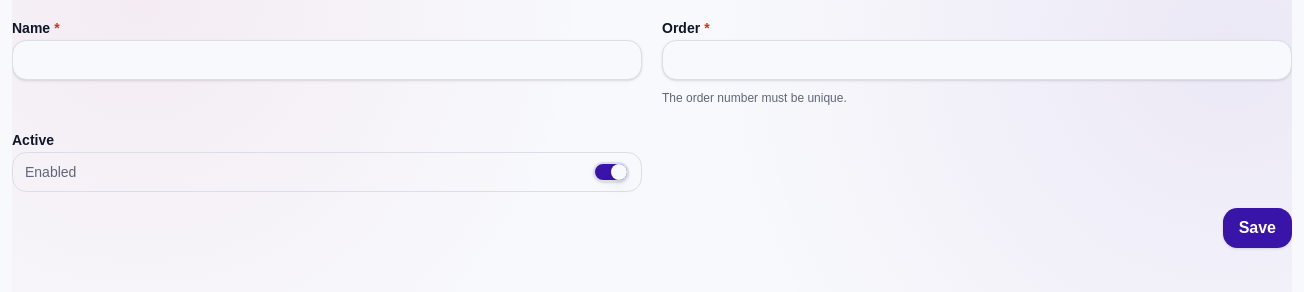
Test: ResourceForm › reports a non-numeric order and an out-of-range one
Step 1. Type "Y" into the field labelled "Name*" → (327, 60), box top-left (12, 40), bottom-right (642, 80)
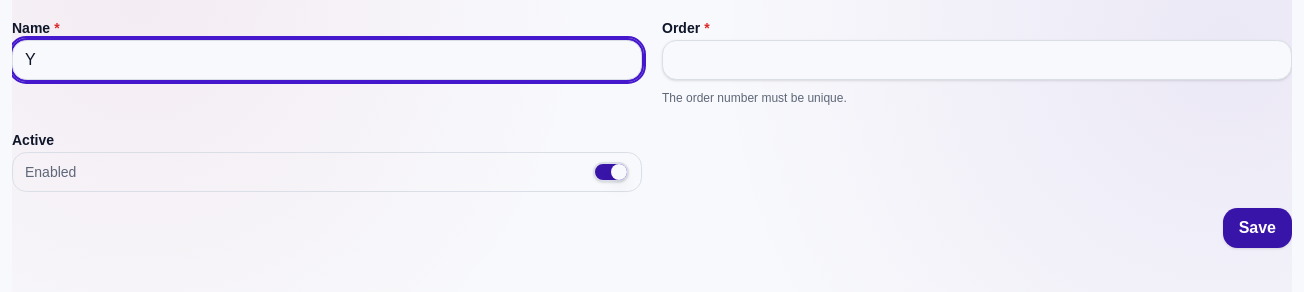
Step 2. Type "12x" into the field labelled "Order*" → (977, 60), box top-left (662, 40), bottom-right (1292, 80)
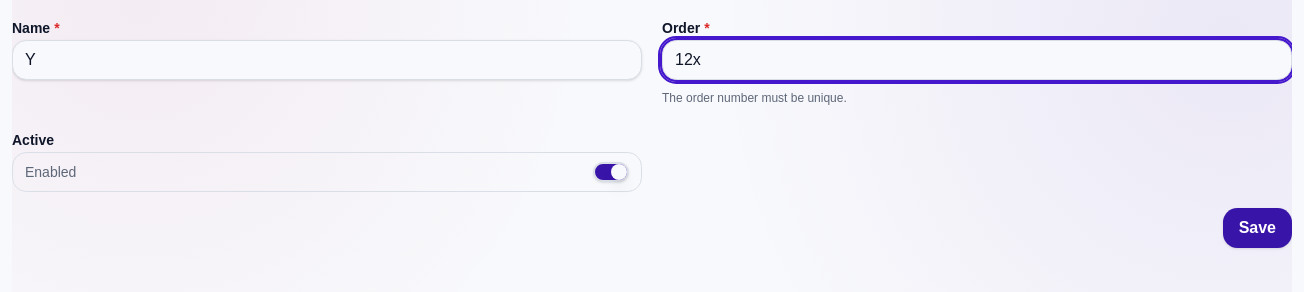
Step 3. Click the button "Save" → (1257, 228), box top-left (1223, 208), bottom-right (1292, 248)
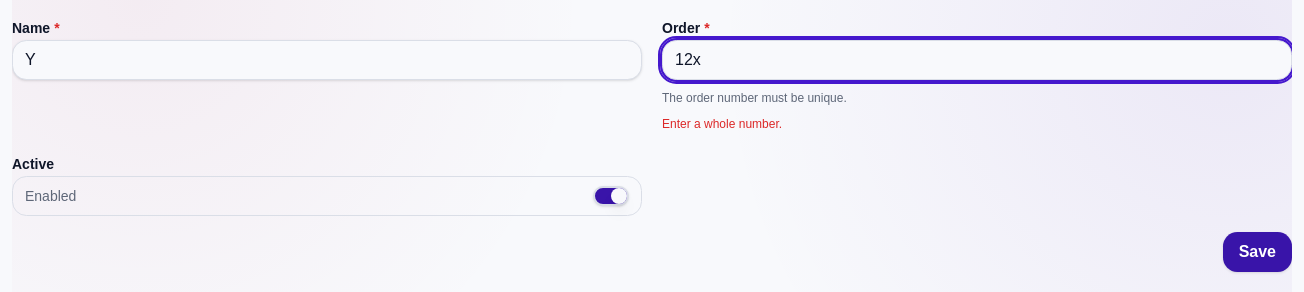
Expected: the text "Enter a whole number." is shown, top-left (662, 117), bottom-right (782, 131)
Step 4. Replace the text in the field labelled "Order*" with "99999" → (977, 60), box top-left (662, 40), bottom-right (1292, 80)
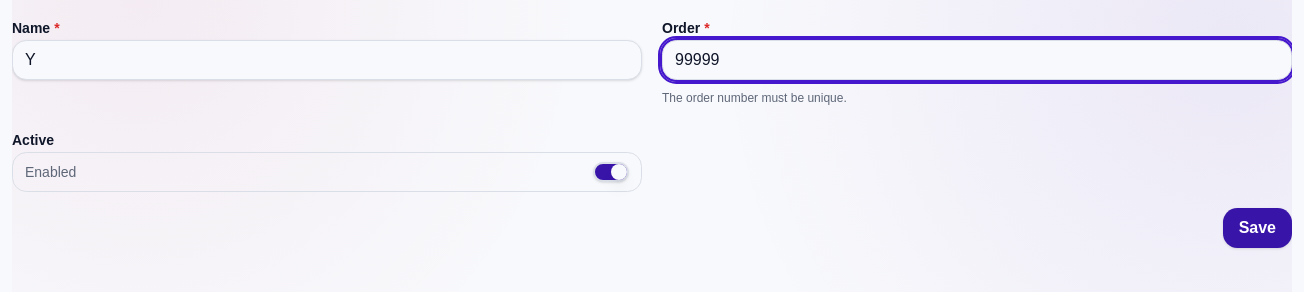
Step 5. Click the button "Save" → (1257, 228), box top-left (1223, 208), bottom-right (1292, 248)
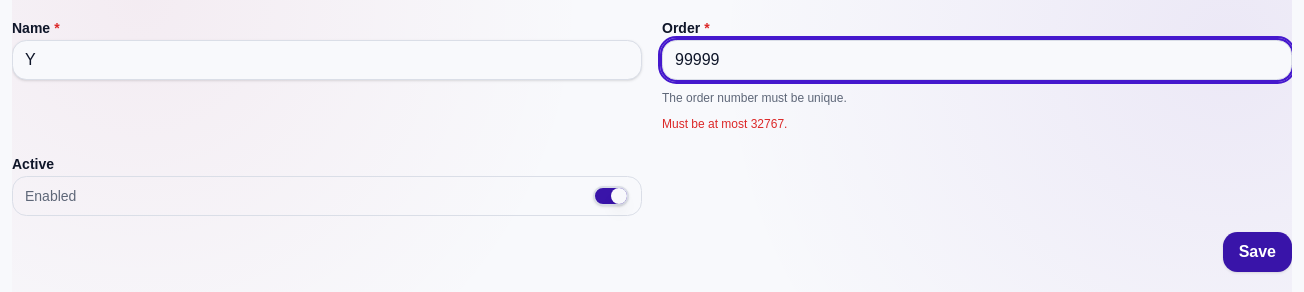
Expected: the text "Must be at most 32767." is shown, top-left (662, 117), bottom-right (787, 131)
